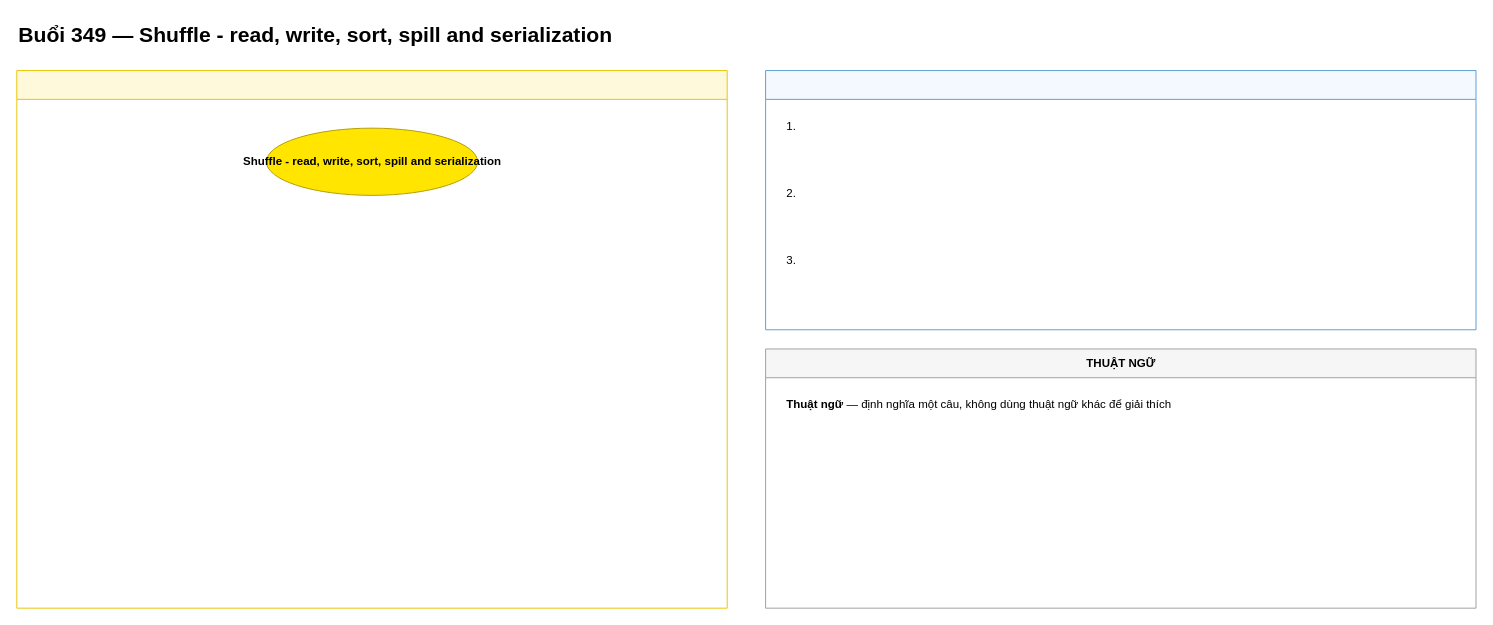
Image size: 1493x625. Some labels were removed from this diagram. Each missing label, with the box of its shape:
KEY TAKEAWAY — ba điều phải nhớ: (765, 70, 1476, 330)
MINDMAP: (16, 70, 727, 608)
